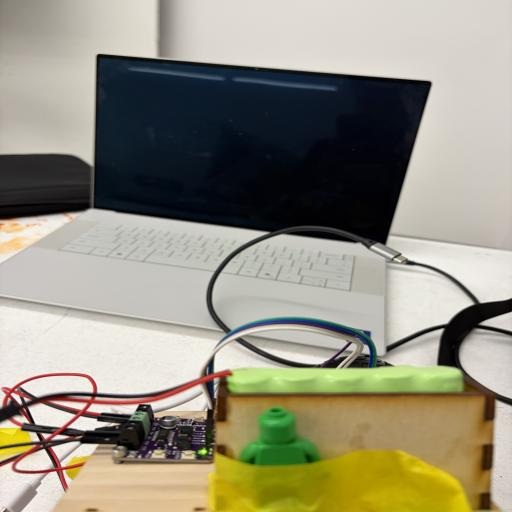Green-Lego: (240, 406, 321, 469), (251, 472, 300, 505)
